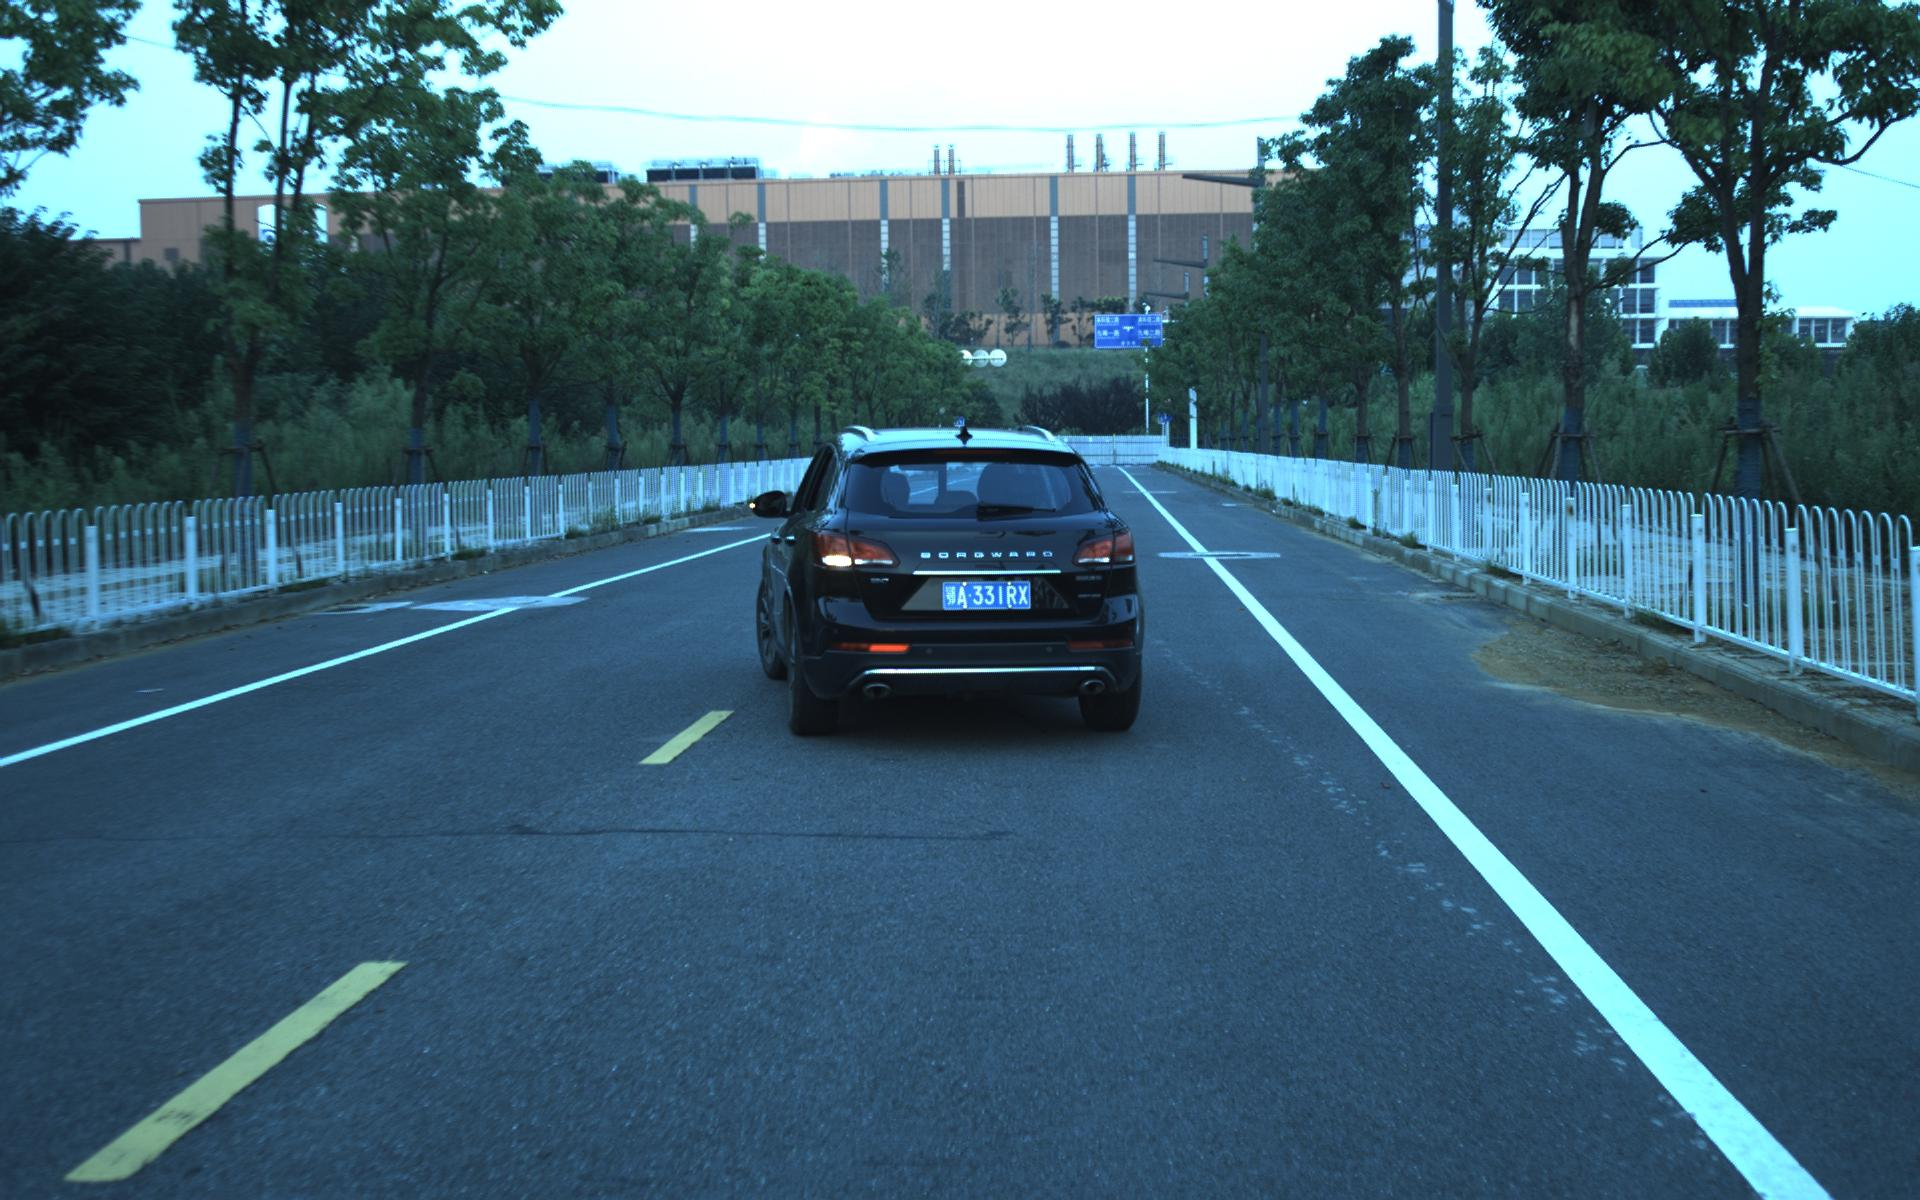Car: (753, 413, 1151, 753)
